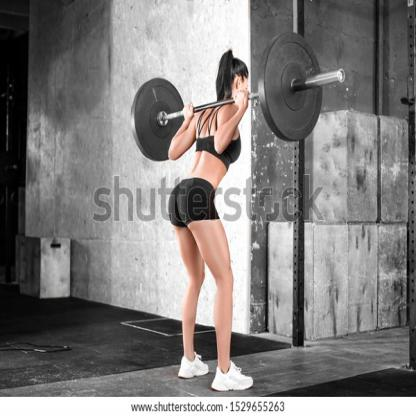Barbell: (255, 19, 349, 146)
